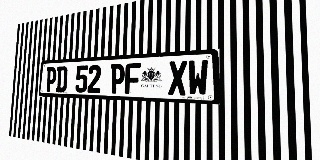2: (87, 64, 101, 93)
5: (75, 65, 88, 93)
D: (56, 66, 68, 92)
F: (125, 63, 141, 94)
P: (110, 63, 125, 94), (45, 67, 57, 92)
W: (188, 59, 208, 96)
X: (168, 60, 187, 95)
